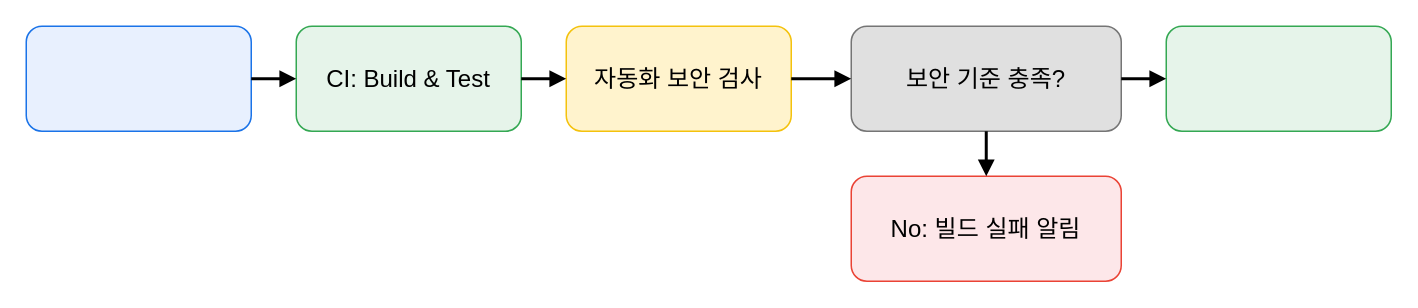
This 1418x308 diagram has some shape labels left out. The centre of each missing label's shape, as x and y in pixels:
"Yes: CD 배포 진행" goes at [1278,78].
"코드 커밋" goes at [138,78].
